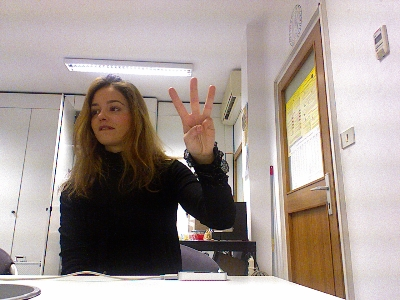三分: (167, 77, 216, 159)
